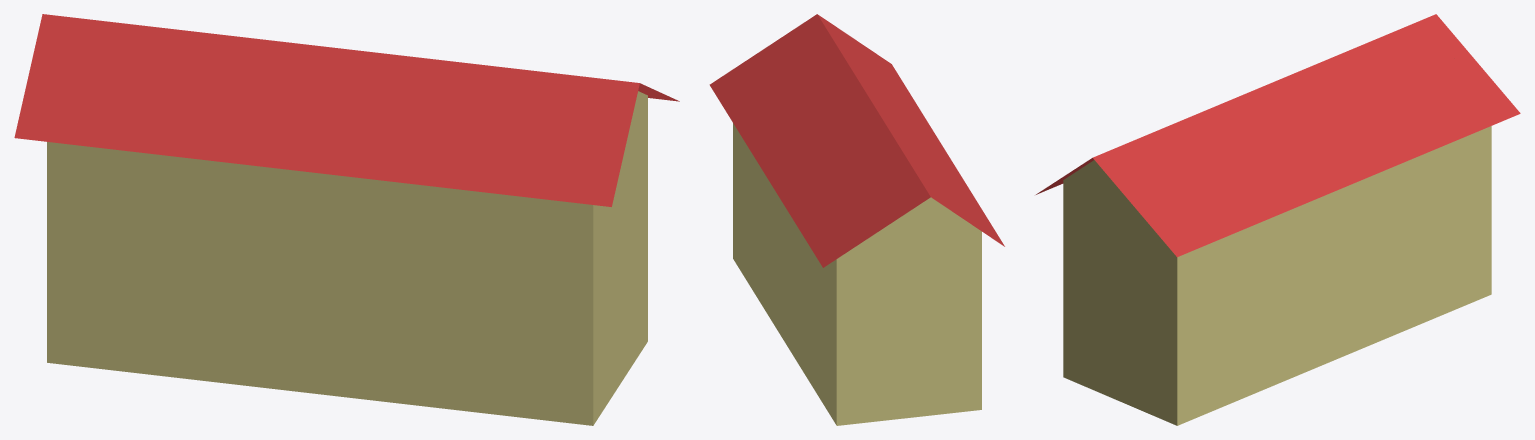
3 views of the same model, side by side, from view 1: azimuth 30°, elevation 25°; view 2: azimuth 150°, elevation 25°; view 3: azimuth 270°, elevation 25° (orthographic). The views are drawn at different scales.
Size of the model in its own units: 17.58 by 17.66 by 9.79.
